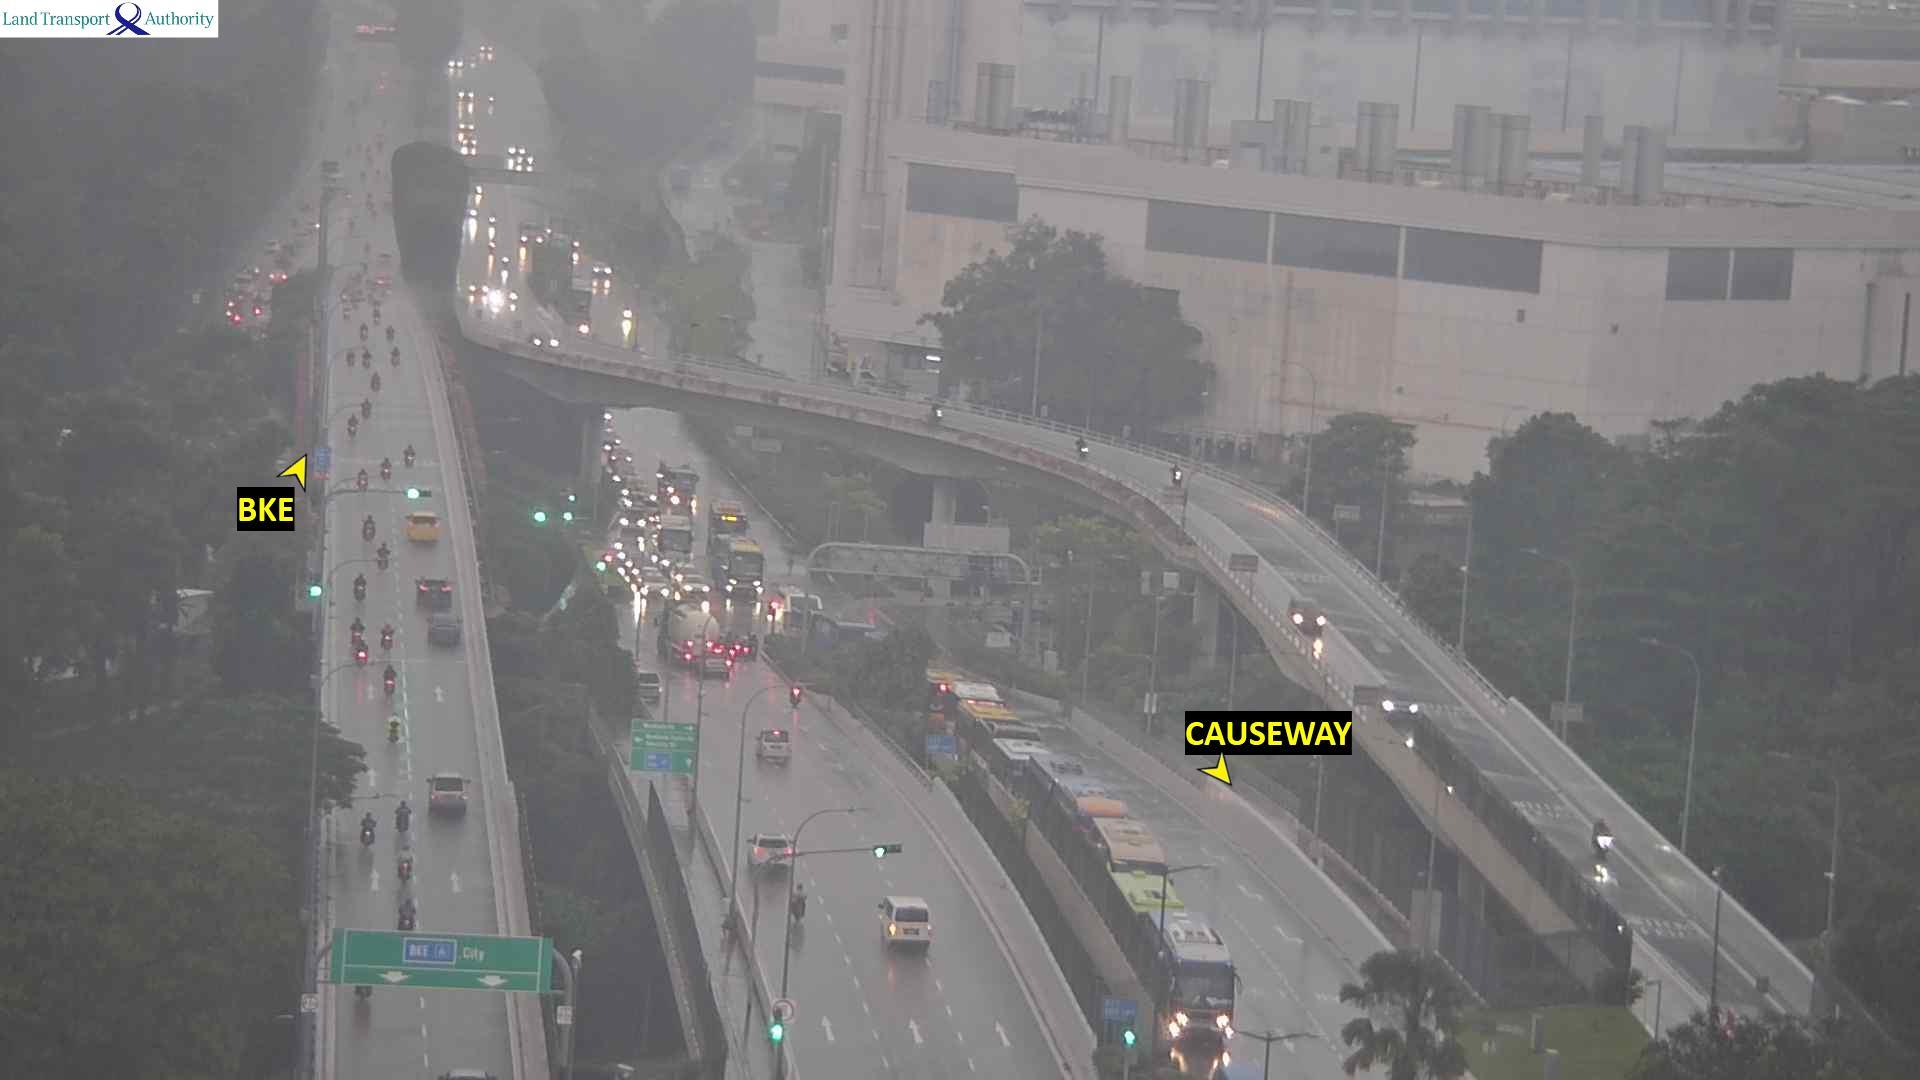vehicle-causeway-johor: (1144, 908, 1240, 1031), (1290, 594, 1324, 639), (1591, 814, 1615, 863), (468, 278, 487, 296), (1171, 464, 1183, 488), (928, 401, 943, 420), (1077, 435, 1088, 457), (549, 333, 558, 345), (531, 333, 539, 345)
vehicle-causeway-singapore: (878, 895, 930, 953), (747, 832, 792, 874), (429, 773, 468, 811), (406, 510, 442, 544), (429, 610, 461, 646), (417, 578, 454, 609), (757, 731, 792, 763), (790, 883, 809, 926), (384, 713, 404, 751), (395, 799, 413, 834), (358, 815, 375, 850), (787, 683, 805, 709), (397, 846, 412, 877), (398, 897, 412, 927), (382, 622, 397, 649), (383, 665, 395, 696), (364, 513, 376, 542), (355, 643, 368, 668), (351, 620, 364, 645), (354, 573, 367, 597), (390, 345, 402, 368), (385, 324, 398, 345), (403, 446, 417, 465), (379, 542, 389, 568), (346, 414, 357, 436), (361, 395, 373, 415), (380, 458, 391, 478), (358, 987, 370, 1004), (357, 322, 367, 341), (358, 469, 367, 490), (361, 349, 370, 368), (372, 370, 379, 393), (347, 348, 354, 371)
